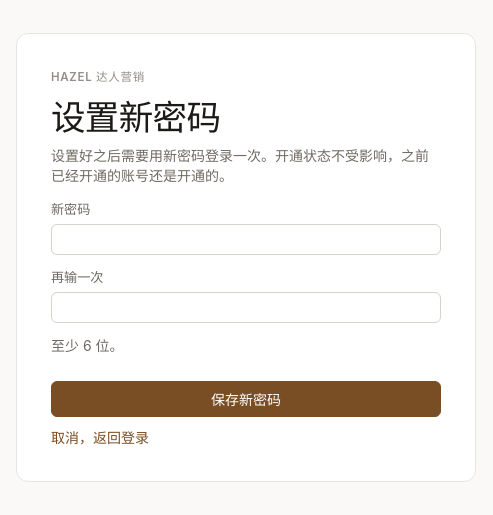
Test: password reset links › will not save two passwords that do not match
Check: the heading "设置新密码" is shown, box [51,96,220,138]
Type "correct-horse" into the password field labelled "新密码" at (246, 239), box [51,224,441,254]
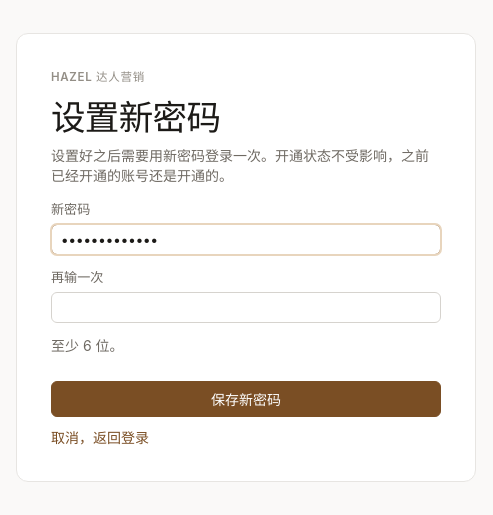
Type "correct-hoarse" into the password field labelled "再输一次" at (246, 307), box [51,292,441,322]
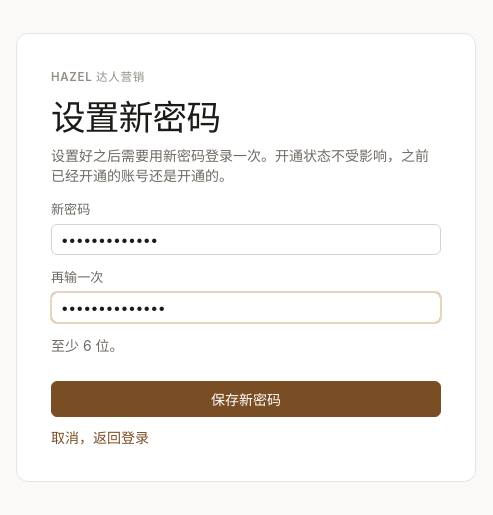
Click the button "保存新密码" at (246, 398), box [51,380,441,416]
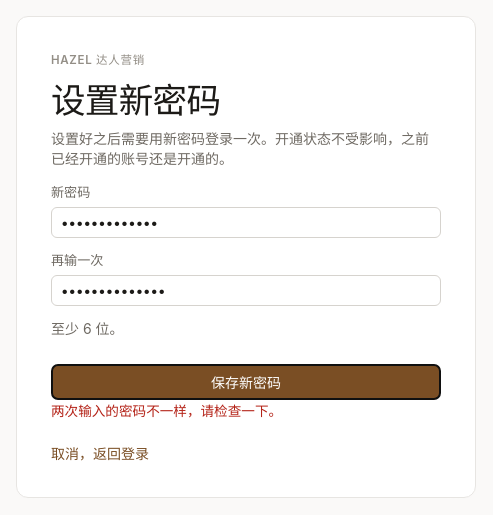
Check: the text "两次输入的密码不一样，请检查一下。" is shown, box [51,403,282,419]
